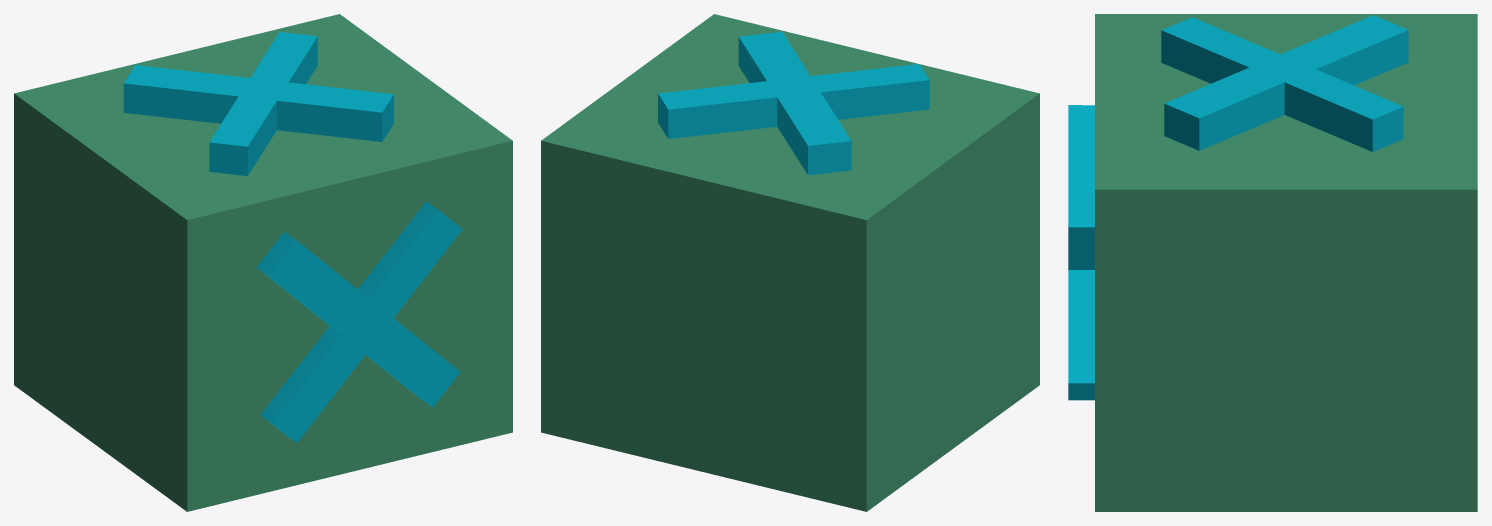
File: multiply.glb
3 renders of one model, left to right at view 1: azimuth 30°, elevation 25°; view 2: azimuth 150°, elevation 25°; view 3: azimuth 270°, elevation 25°, orthographic. The views are drawn at different scales.
Parts seen in each view (by area): view 1: Mesh_Mesh_head_geo.001_lambert2SG.001; view 2: Mesh_Mesh_head_geo.001_lambert2SG.001; view 3: Mesh_Mesh_head_geo.001_lambert2SG.001.
Part boxes in pixels (<box>): Mesh_Mesh_head_geo.001_lambert2SG.001: <box>14,14,512,511</box>; Mesh_Mesh_head_geo.001_lambert2SG.001: <box>541,14,1039,511</box>; Mesh_Mesh_head_geo.001_lambert2SG.001: <box>1068,14,1477,511</box>.
Bounding box in the file's own units: 0.139 × 0.131 × 0.137.
